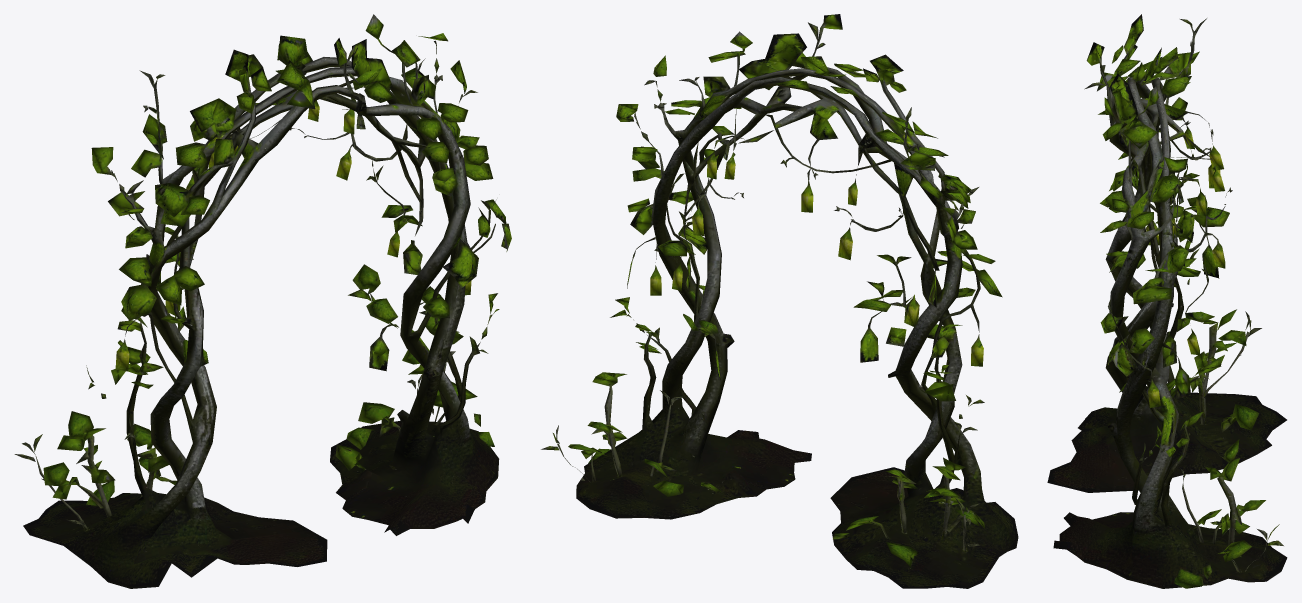
The model's file is selected.glb.
3 renders of one model, left to right at view 1: azimuth 30°, elevation 25°; view 2: azimuth 150°, elevation 25°; view 3: azimuth 270°, elevation 25°, orthographic. The views are drawn at different scales.
Visible parts, largest first — view 1: tripo_node_df4dd6cc-166b-4800-86bc-380f770ec2d1; view 2: tripo_node_df4dd6cc-166b-4800-86bc-380f770ec2d1; view 3: tripo_node_df4dd6cc-166b-4800-86bc-380f770ec2d1.
Boxes of the visible parts, box(x1,y1,x2,y2) form: tripo_node_df4dd6cc-166b-4800-86bc-380f770ec2d1: box(14, 14, 511, 588); tripo_node_df4dd6cc-166b-4800-86bc-380f770ec2d1: box(541, 14, 1018, 588); tripo_node_df4dd6cc-166b-4800-86bc-380f770ec2d1: box(1047, 14, 1287, 588).
Size of the model in its own units: 0.9277 by 0.998 by 0.4668.
1 material, 1 textured.
